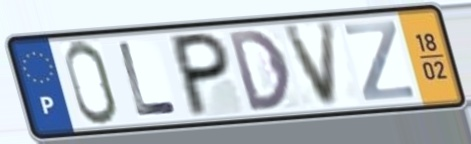0: (61, 37, 122, 129)
D: (224, 27, 294, 115)
L: (115, 40, 181, 119)
P: (170, 30, 232, 121)
V: (280, 18, 339, 111)
Z: (341, 18, 418, 104)
